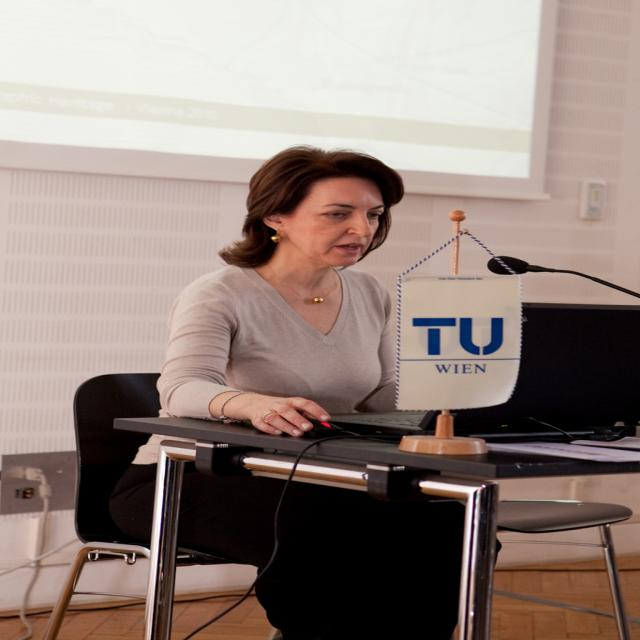chair: (43, 374, 258, 640)
desk: (113, 417, 639, 639)
person: (122, 141, 446, 636)
